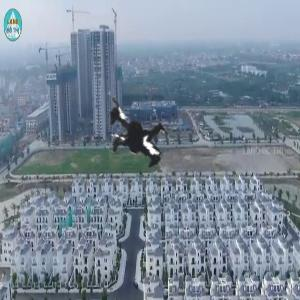drone: (49, 13, 254, 218)
